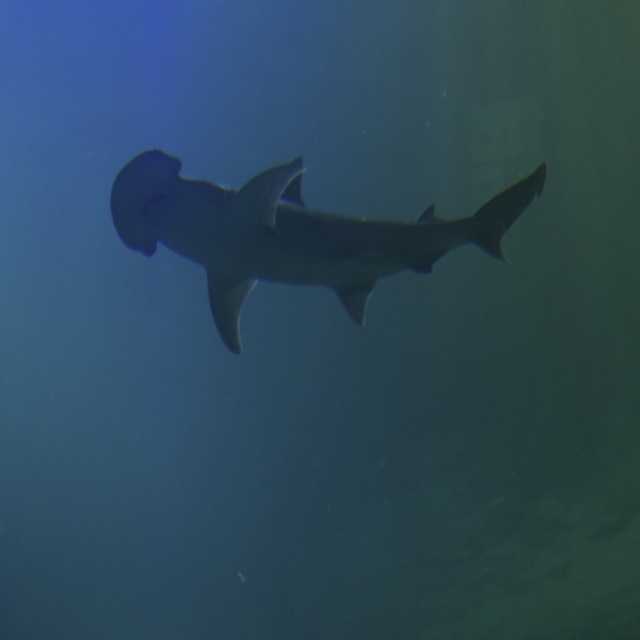Shark: (109, 145, 545, 357)
